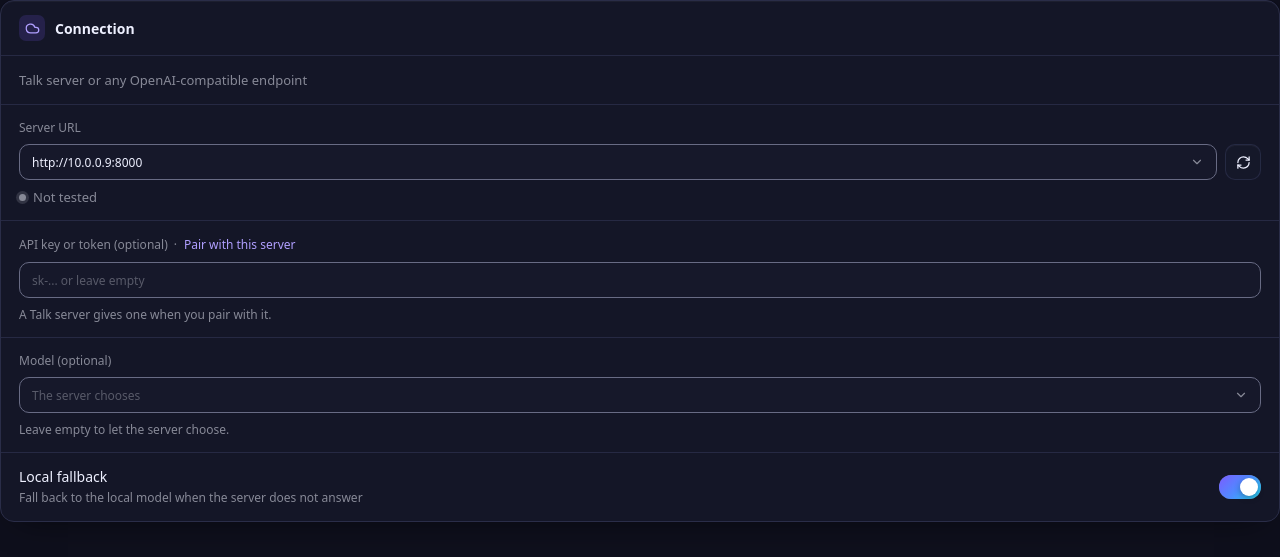
it: ServerTab suggestions › offers what a Talk server lists, as it lists it
The width and height of the screenshot is (1280, 557).
Click the button named "Known models".
click(1241, 395)  # box [1227, 381, 1255, 409]
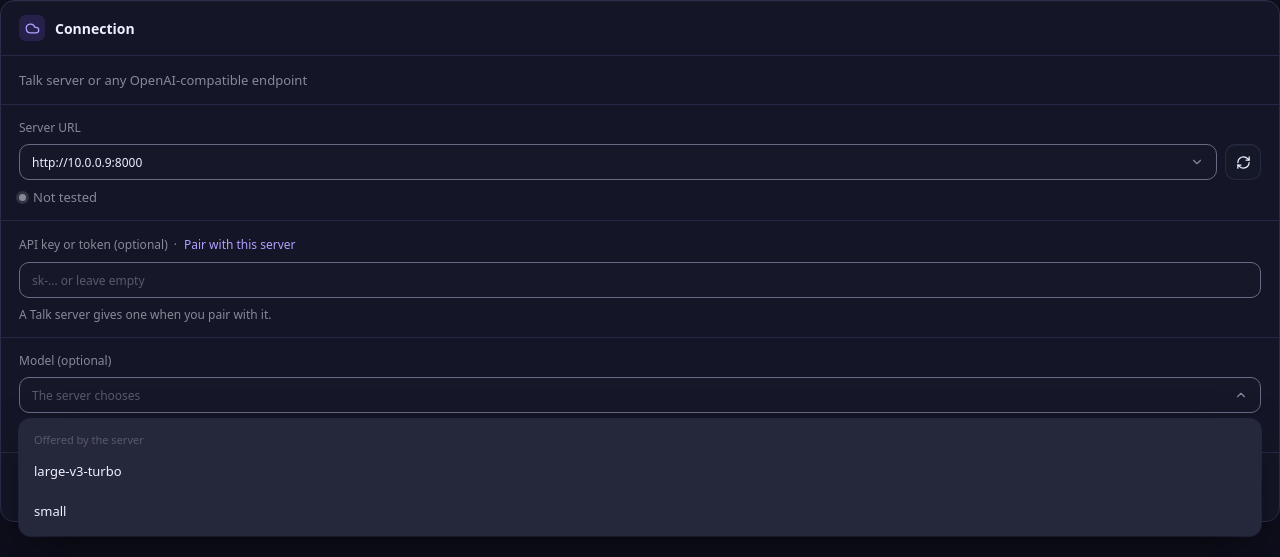
Check: the text "Offered by the server" is shown, box [34, 432, 144, 447]
Check: the options read "large-v3-turbo", "small", in this order, box [34, 462, 122, 480]; [34, 502, 66, 520]
